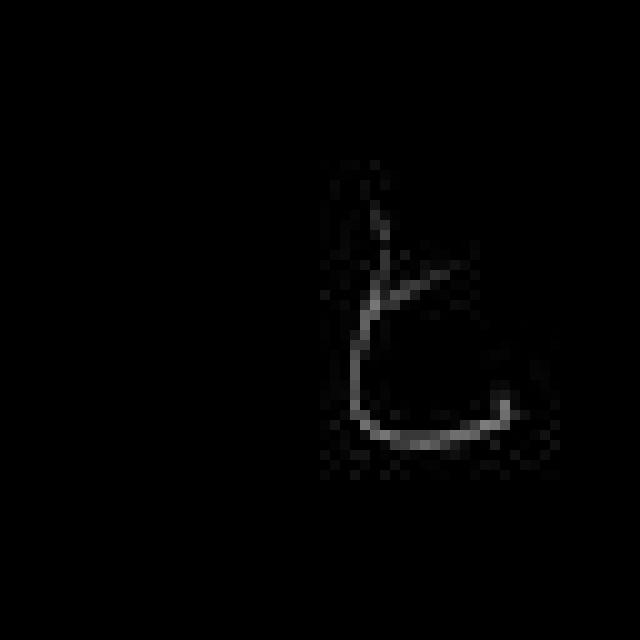7 -seven-: (333, 208, 522, 455)
